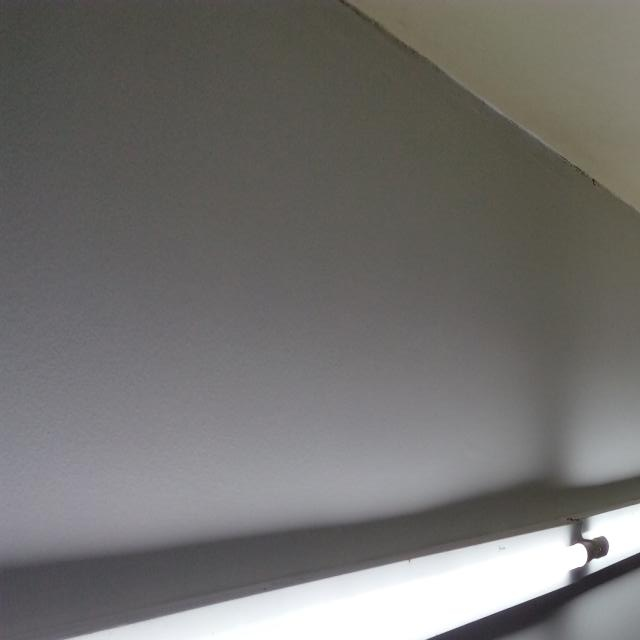fluorescent tube: (0, 453, 617, 640), (560, 449, 640, 587)
